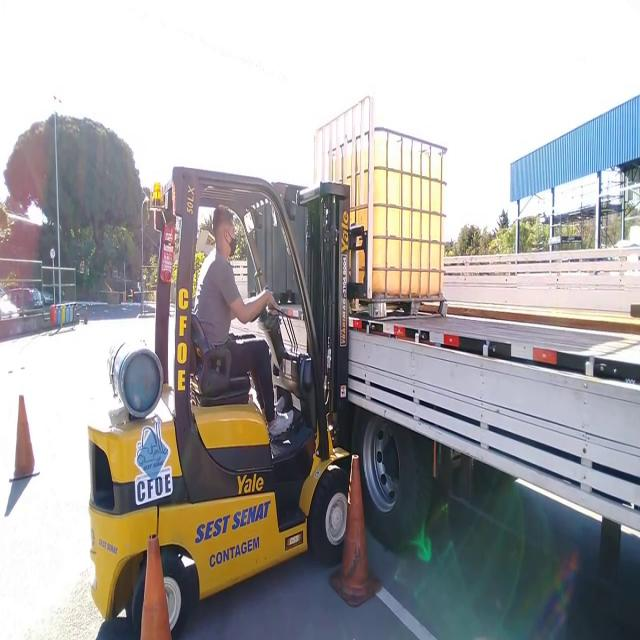Chariot elevateur: (81, 147, 366, 640)
